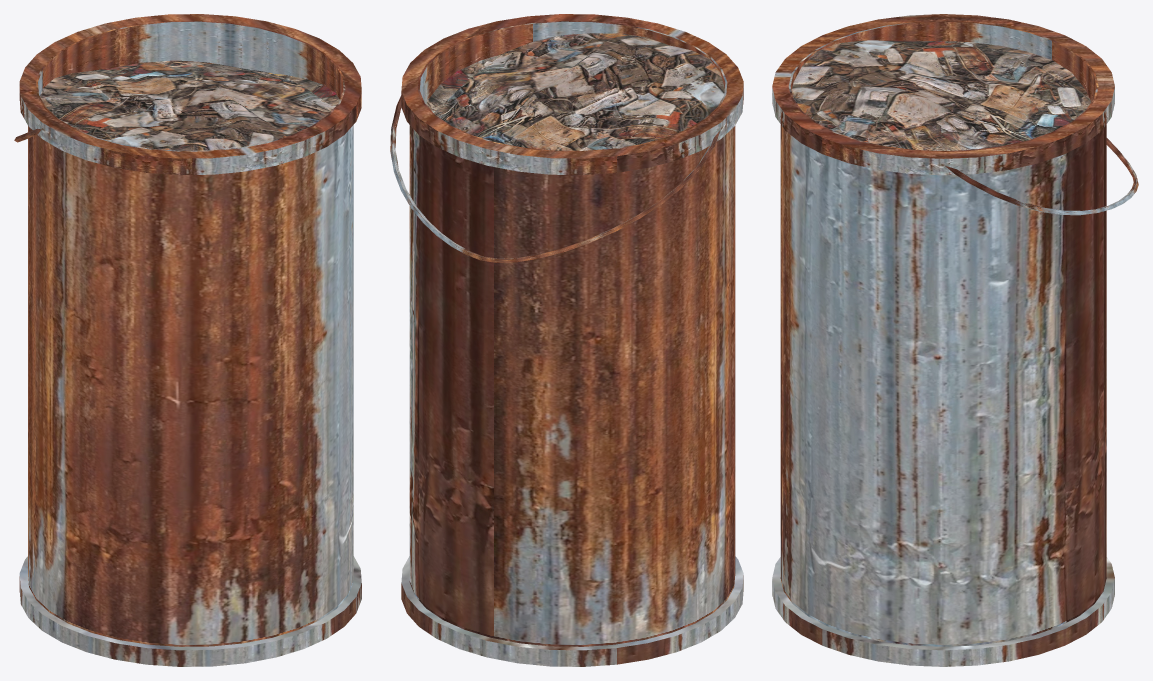
File: ps2_style_rusty_trash_bin.glb
3 views of the same model, side by side, from view 1: azimuth 30°, elevation 25°; view 2: azimuth 150°, elevation 25°; view 3: azimuth 270°, elevation 25° (orthographic).
Parts seen in each view (by area): view 1: Cylinder; view 2: Cylinder; view 3: Cylinder.
Part boxes in pixels (left/top/right/bottom): Cylinder: left=14, top=14, right=361, bottom=666; Cylinder: left=390, top=14, right=743, bottom=666; Cylinder: left=772, top=14, right=1138, bottom=666.
Bounding box in the file's own units: 1.25 × 2 × 1.31.
Materials: 2 (2 with a texture image).
